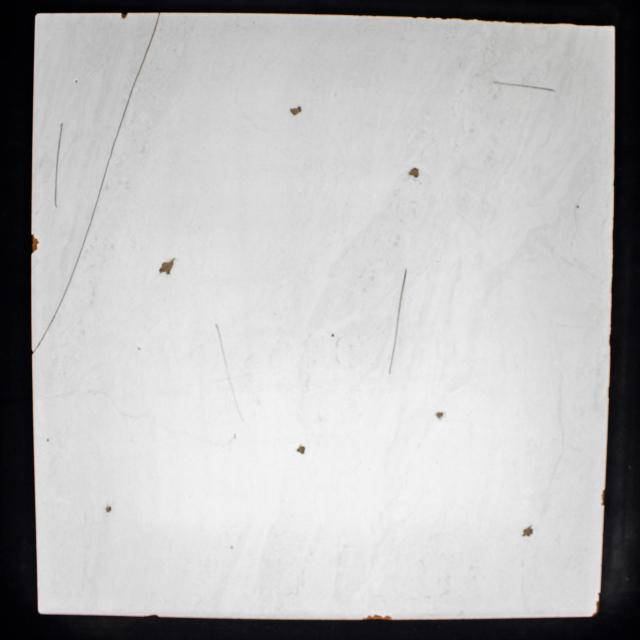edge-chipping: (592, 593, 600, 617), (362, 614, 392, 620), (31, 233, 39, 253), (601, 490, 605, 506), (121, 12, 128, 19), (145, 614, 159, 617)
hole: (158, 258, 176, 275), (522, 526, 534, 537), (289, 106, 302, 116), (409, 168, 419, 178), (296, 446, 306, 454), (105, 506, 112, 513), (436, 412, 444, 418), (331, 333, 335, 338), (576, 204, 580, 209), (75, 80, 78, 84)
line: (33, 255, 80, 352), (80, 139, 115, 254), (214, 322, 244, 418), (388, 267, 408, 376), (115, 68, 139, 139), (141, 13, 160, 68), (492, 80, 557, 94), (54, 121, 64, 207)
